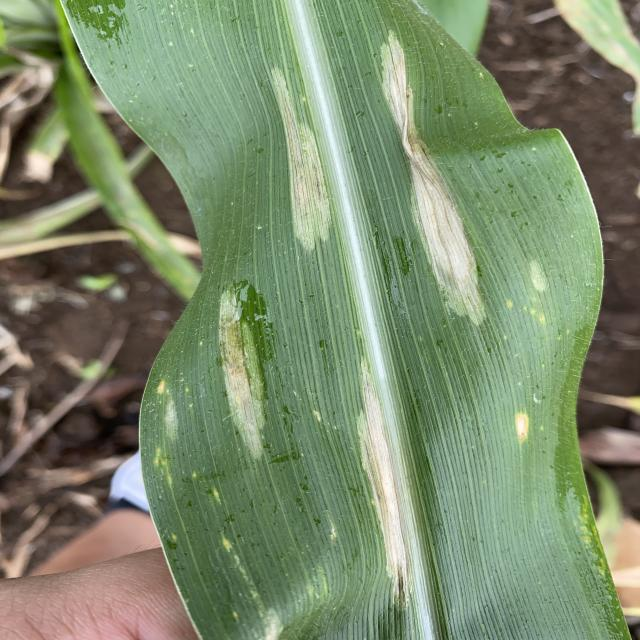Corn_Leaf_Blight: (166, 17, 584, 640)
